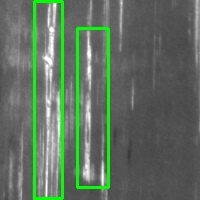scratches: (34, 1, 62, 198), (77, 28, 108, 187)
